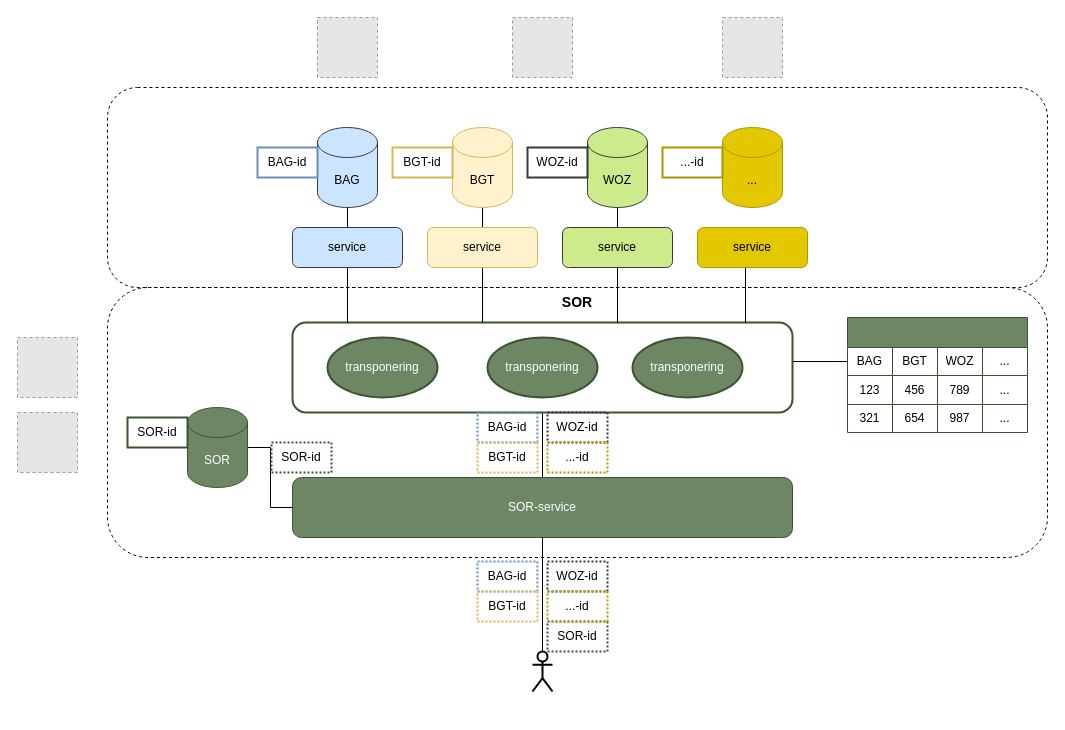
Some shapes in this 1065 by 730 pixel diagram are drawn without their labels. Grey dashed boxes stand in for pictures. The box of each missing label's shape, as (x1, y1, x2, y2) in pixels:
Bronregistraties SOR: (106, 86, 1048, 288)
Gebruiker: (531, 650, 553, 692)
ID-koppeltabel: (846, 316, 1028, 432)
